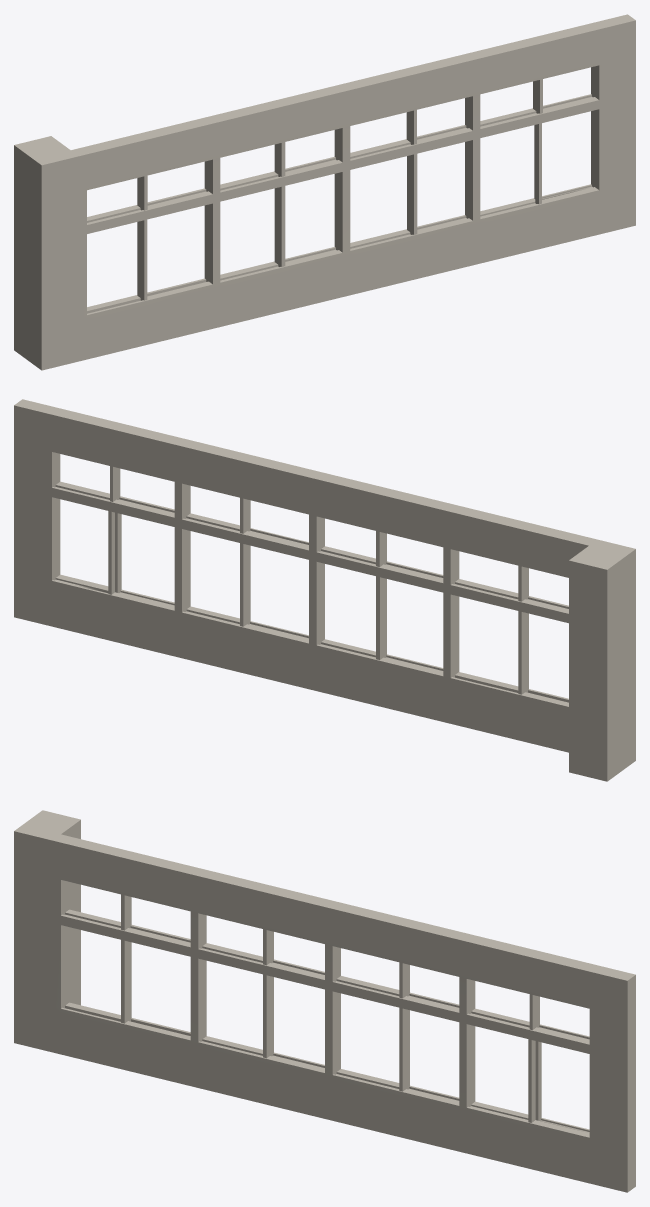
Rendered from LeftWall.obj.
3 renders of one model, top to bottom at view 1: azimuth 30°, elevation 25°; view 2: azimuth 150°, elevation 25°; view 3: azimuth 330°, elevation 25°, orthographic. The views are drawn at different scales.
Visible parts, largest first — view 1: LeftWall_LeftWall_initialShadingGroup.003, LeftWall_LeftWall_blinn1SG; view 2: LeftWall_LeftWall_initialShadingGroup.003, LeftWall_LeftWall_blinn1SG; view 3: LeftWall_LeftWall_initialShadingGroup.003, LeftWall_LeftWall_blinn1SG.
Part boxes in pixels (left/top/right/bottom): LeftWall_LeftWall_initialShadingGroup.003: left=14, top=14, right=635, bottom=370; LeftWall_LeftWall_blinn1SG: left=79, top=62, right=599, bottom=322; LeftWall_LeftWall_initialShadingGroup.003: left=14, top=399, right=635, bottom=781; LeftWall_LeftWall_blinn1SG: left=14, top=439, right=568, bottom=712; LeftWall_LeftWall_initialShadingGroup.003: left=14, top=810, right=635, bottom=1192; LeftWall_LeftWall_blinn1SG: left=52, top=874, right=589, bottom=1142.
Bounding box in the file's own units: 22.16 × 7.31 × 1.79.
